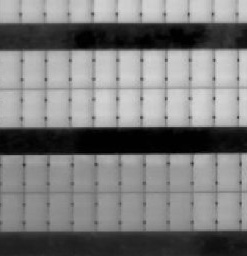solar: (19, 48, 48, 89), (44, 48, 73, 89), (67, 48, 96, 89), (91, 48, 120, 89), (115, 48, 144, 89), (140, 48, 169, 89), (164, 48, 193, 89), (188, 48, 217, 89), (211, 48, 240, 89), (211, 86, 240, 127), (187, 86, 216, 127), (162, 86, 191, 127), (139, 86, 168, 127), (114, 86, 143, 127), (91, 86, 120, 127), (67, 86, 96, 127), (43, 87, 72, 128), (18, 87, 47, 128), (22, 152, 51, 193), (46, 152, 75, 193), (70, 152, 99, 193), (94, 152, 123, 193), (118, 152, 147, 193), (142, 152, 171, 193), (166, 152, 195, 193), (190, 152, 219, 193), (214, 152, 243, 193), (22, 191, 51, 232), (46, 191, 75, 232), (70, 191, 99, 232), (94, 191, 123, 232), (118, 191, 147, 232), (142, 191, 171, 232), (166, 191, 195, 232), (191, 191, 220, 232), (215, 191, 244, 232), (1, 151, 29, 192), (1, 191, 29, 232)
